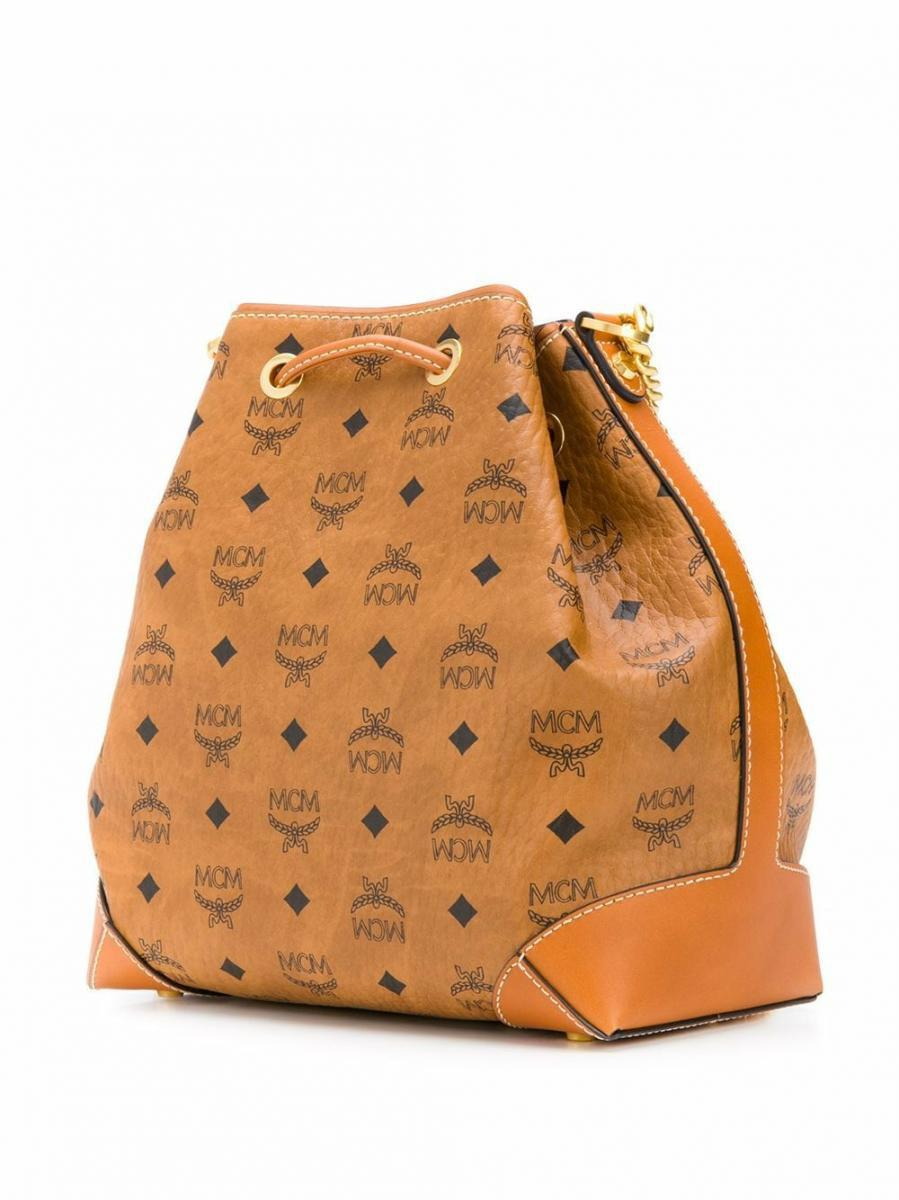MCM: (81, 288, 830, 1045)
